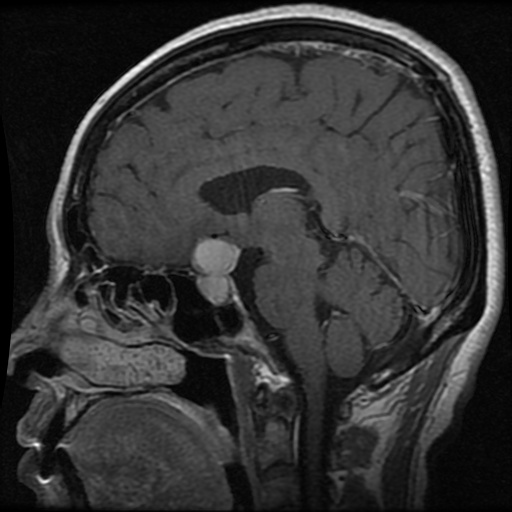pituitary: (193, 238, 237, 303)
